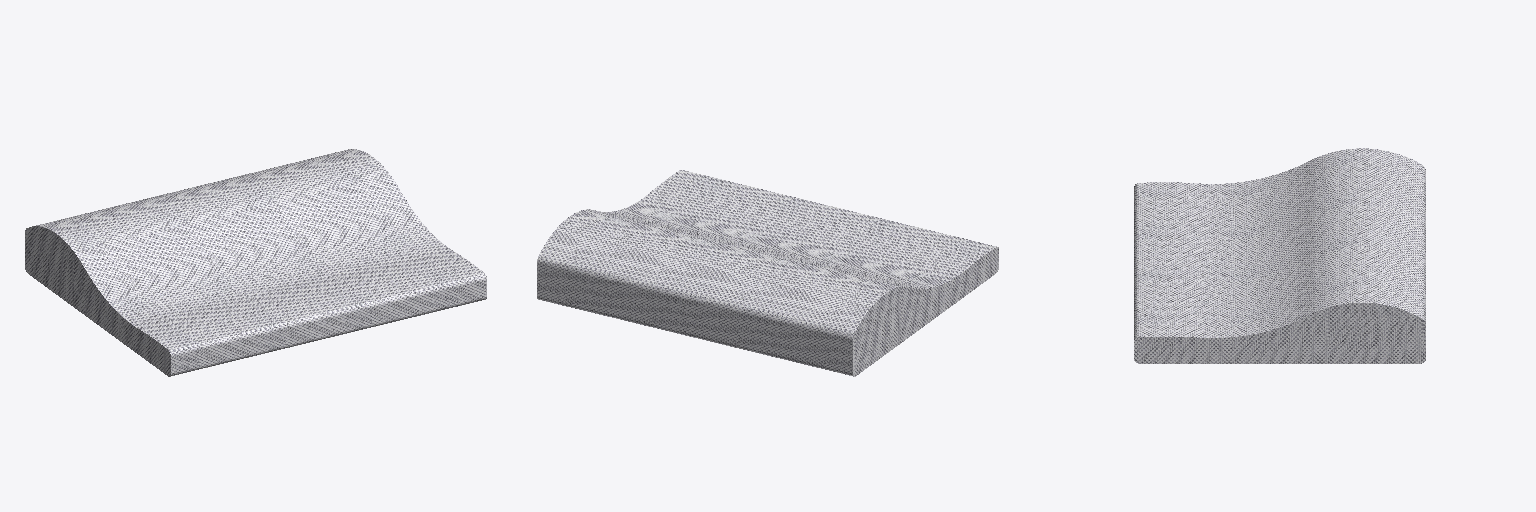
3 renders of one model, left to right at view 1: azimuth 30°, elevation 25°; view 2: azimuth 150°, elevation 25°; view 3: azimuth 270°, elevation 25°, orthographic.
Parts seen in each view (by area): view 1: white; view 2: white; view 3: white.
Part boxes in pixels (bbox=[...]): white: bbox=[25, 149, 486, 376]; white: bbox=[537, 170, 998, 376]; white: bbox=[1134, 148, 1425, 363].
Bounding box in the file's own units: 5.65 × 1.04 × 4.52.
Materials: 1 (1 with a texture image).